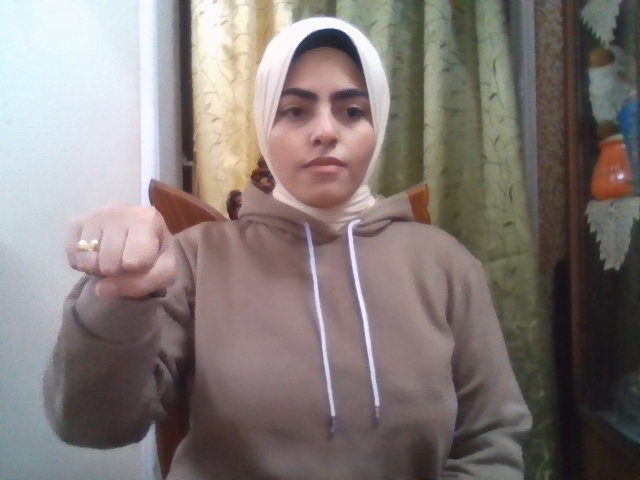yes: (65, 203, 175, 297)
